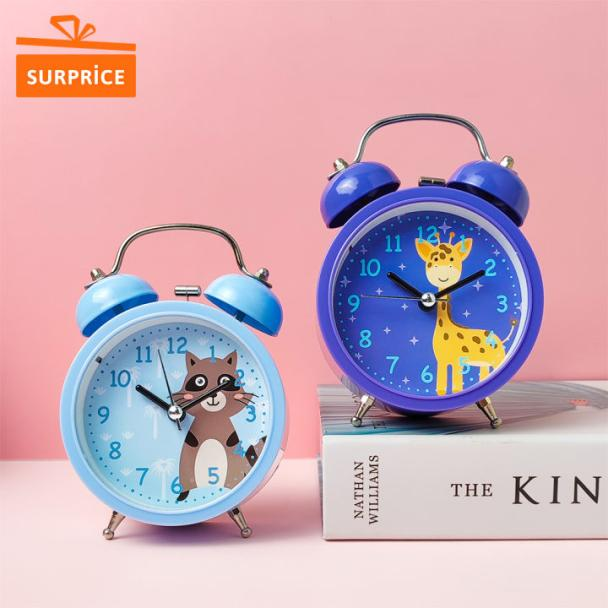Jam: (312, 109, 558, 434), (49, 227, 296, 548)
